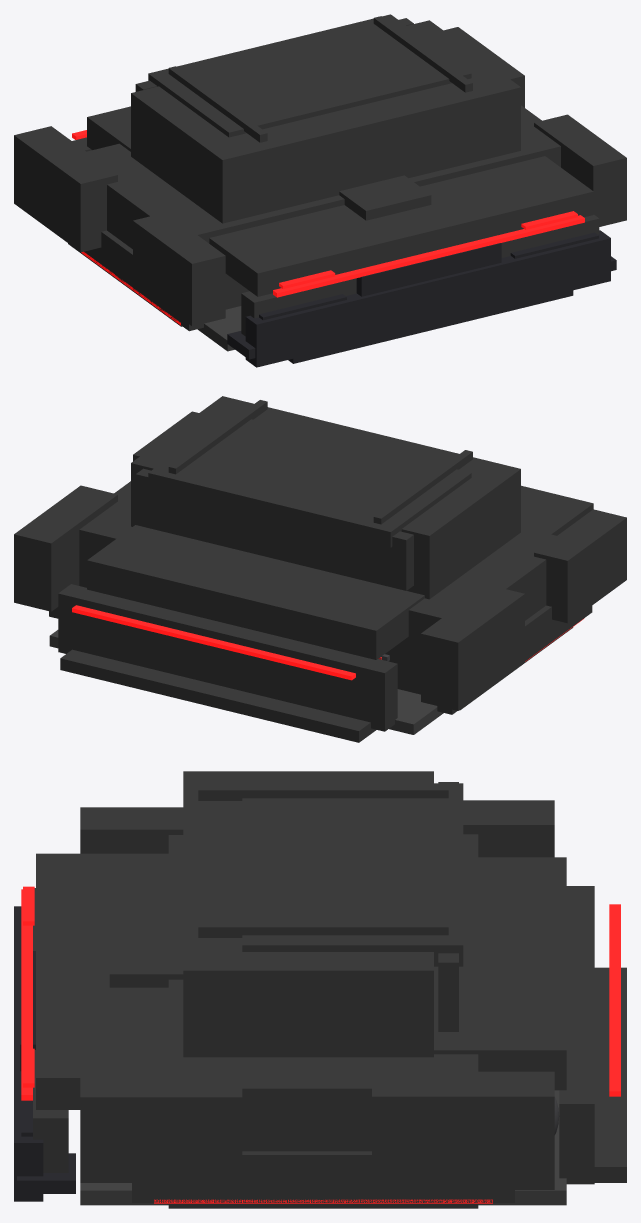
File: ferrari3.glb
The picture shows the model from 3 angles, top to bottom: view 1: azimuth 30°, elevation 25°; view 2: azimuth 150°, elevation 25°; view 3: azimuth 270°, elevation 25°; orthographic projection. The views are drawn at different scales.
Parts seen in each view (by area): view 1: CarBody, FrontBumper, RedAccents, Underbody; view 2: CarBody, RedAccents, Underbody; view 3: CarBody, RedAccents, FrontBumper, Underbody.
Part boxes in pixels (box(x1,y1,x2,y2)): CarBody: box(14, 14, 626, 336); FrontBumper: box(227, 230, 616, 367); RedAccents: box(72, 130, 584, 325); Underbody: box(197, 306, 241, 351); CarBody: box(14, 396, 626, 742); RedAccents: box(72, 605, 584, 680); Underbody: box(49, 630, 443, 734); CarBody: box(33, 771, 626, 1208); RedAccents: box(21, 886, 620, 1203); FrontBumper: box(14, 906, 75, 1201); Underbody: box(80, 1090, 566, 1205).
Bounding box in the file's own units: 4.76 × 1.76 × 4.16.
